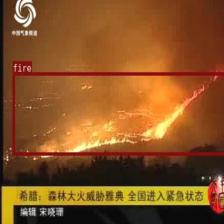fire: (12, 72, 224, 154)
